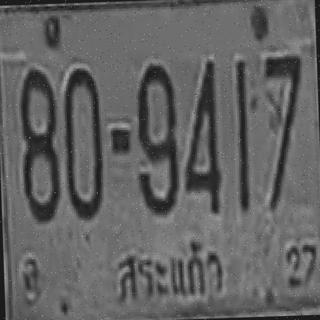N04: (181, 60, 221, 213)
N08: (19, 69, 62, 222), (20, 94, 61, 223)
N09: (133, 64, 180, 214)
P55: (106, 237, 237, 310)
